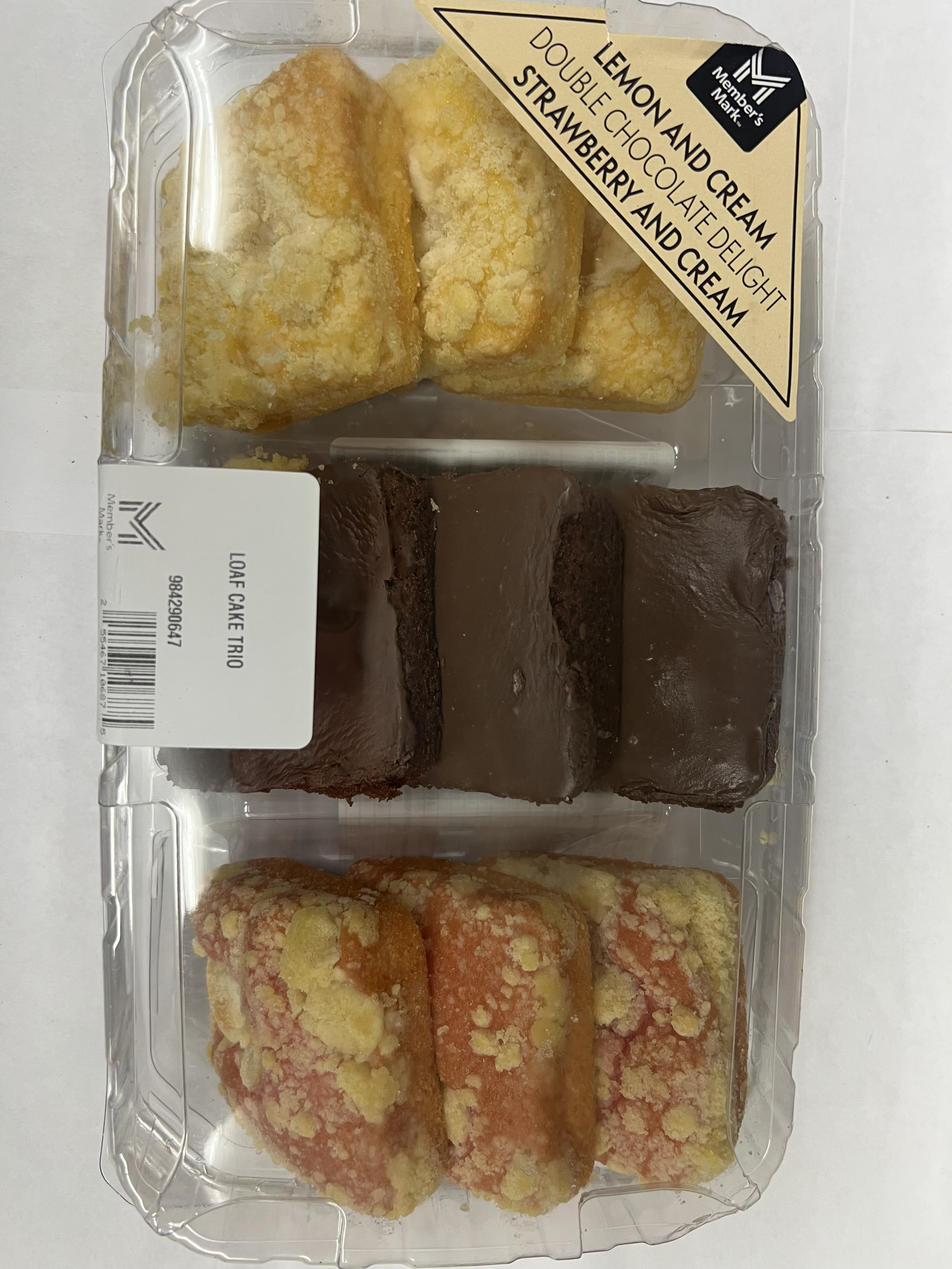bakery: (90, 32, 828, 1269)
